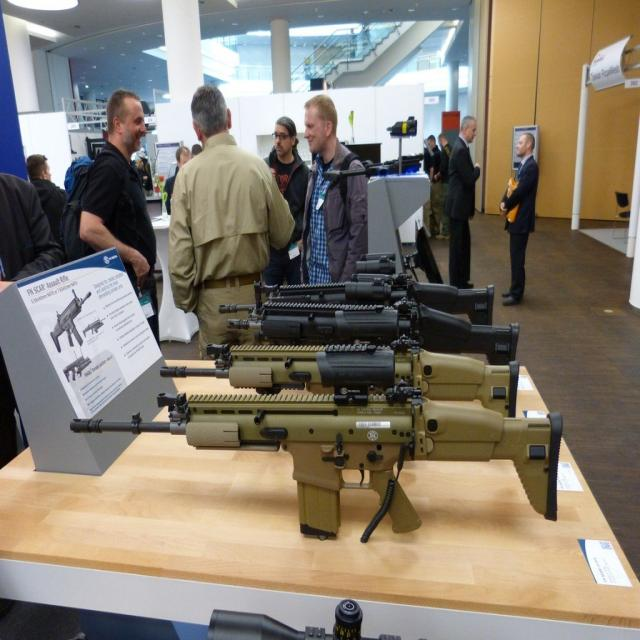firearm: (69, 381, 564, 540), (159, 336, 521, 418), (225, 296, 521, 366), (217, 252, 495, 324), (49, 287, 91, 355)
